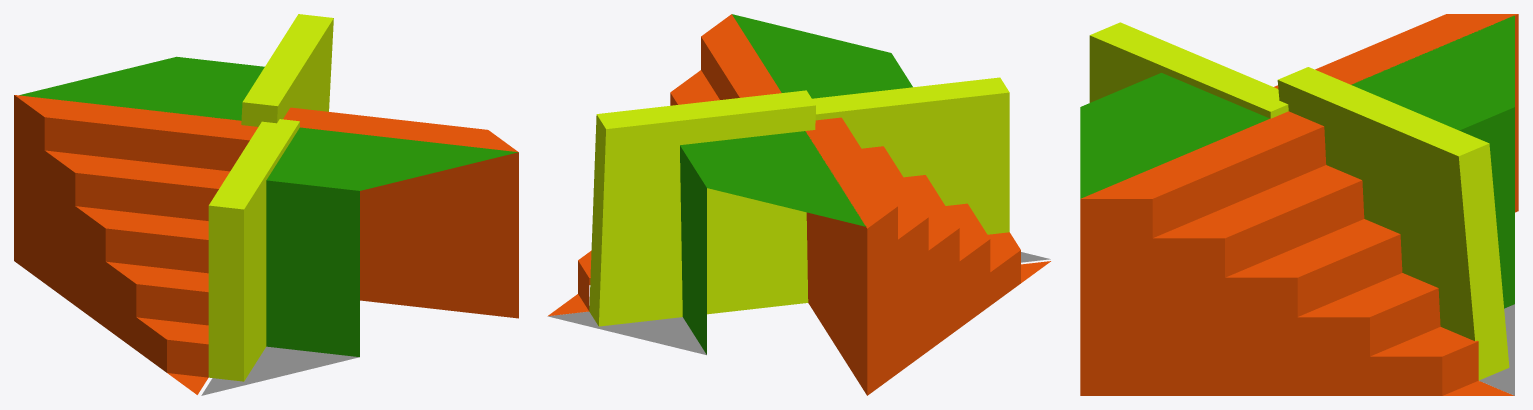
3 views of the same model, side by side, from view 1: azimuth 30°, elevation 25°; view 2: azimuth 150°, elevation 25°; view 3: azimuth 270°, elevation 25° (orthographic). The views are drawn at different scales.
Visible parts, largest first — view 1: T_a_5_0; view 2: T_a_5_0; view 3: T_a_5_0.
Part boxes in pixels (x1,y1,x2,y2): T_a_5_0: (14, 14, 518, 395); T_a_5_0: (547, 14, 1050, 395); T_a_5_0: (1080, 14, 1518, 395).
Bounding box in the file's own units: 100 × 56.97 × 101.
